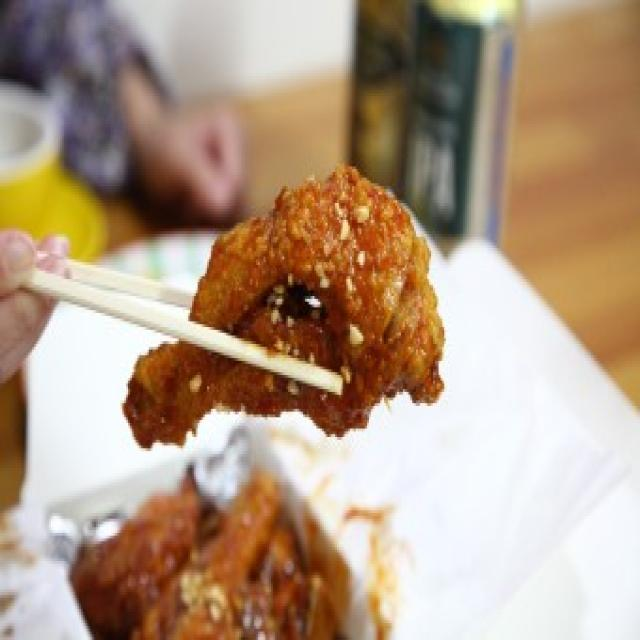Frango: (122, 156, 453, 452), (80, 478, 328, 640)
